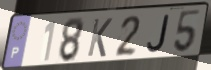1: (43, 21, 57, 63)
2: (114, 15, 142, 59)
5: (172, 8, 204, 55)
8: (58, 16, 85, 64)
J: (145, 13, 171, 55)
K: (86, 17, 114, 59)
